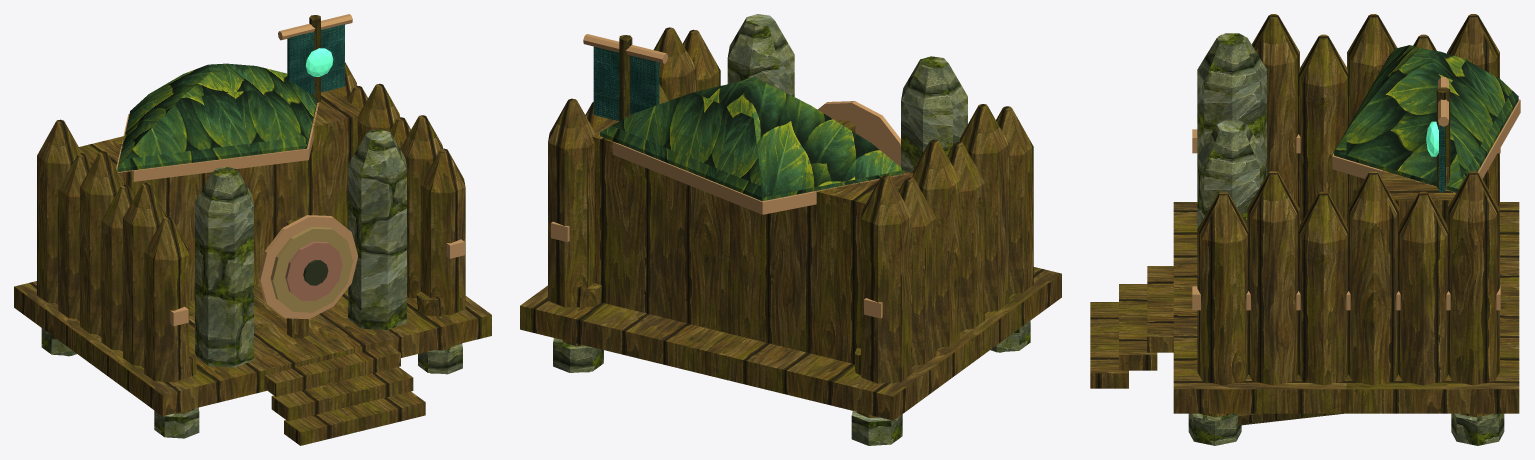
Rendered from 12-oak-guardhouse.glb.
3 views of the same model, side by side, from view 1: azimuth 30°, elevation 25°; view 2: azimuth 150°, elevation 25°; view 3: azimuth 270°, elevation 25° (orthographic). The views are drawn at different scales.
Parts seen in each view (by area): view 1: 12-oak-guardhouse; view 2: 12-oak-guardhouse; view 3: 12-oak-guardhouse.
Part boxes in pixels (box(x1,y1,x2,y2)): 12-oak-guardhouse: box(14, 14, 491, 445); 12-oak-guardhouse: box(520, 14, 1061, 445); 12-oak-guardhouse: box(1090, 14, 1520, 445).
Size of the model in its own units: 3.1 by 2.57 by 3.01.
10 materials, 5 textured.
